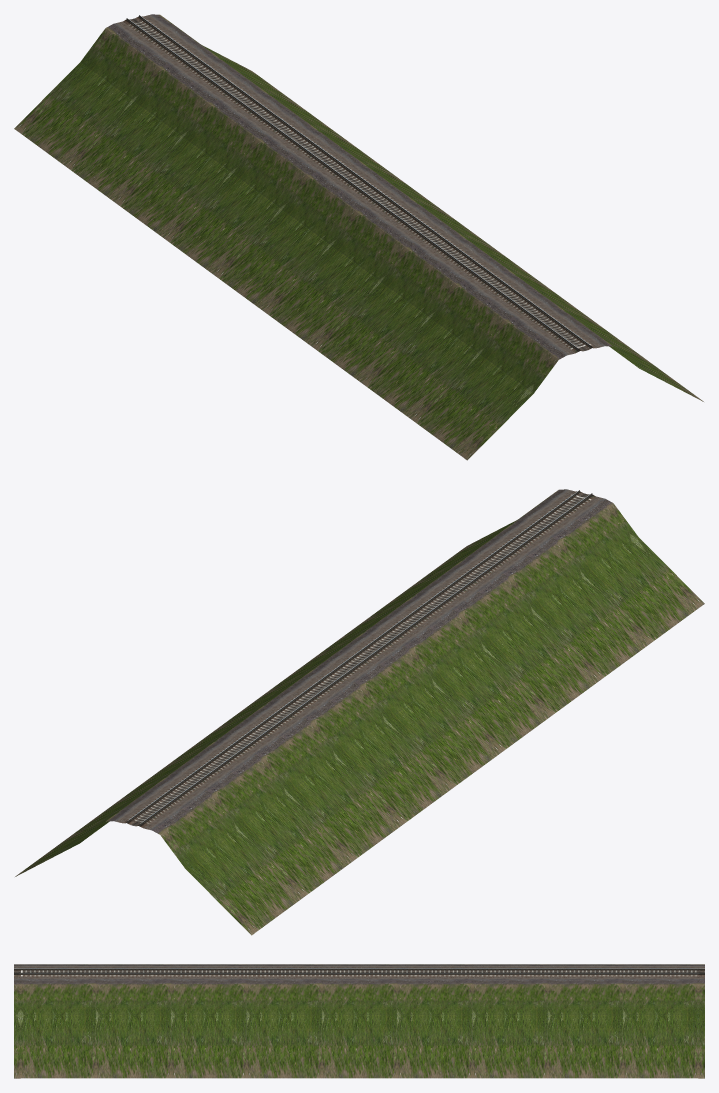
File: tracks_1track.gltf
3 views of the same model, one above another, from view 1: azimuth 30°, elevation 25°; view 2: azimuth 150°, elevation 25°; view 3: azimuth 270°, elevation 25° (orthographic). The views are drawn at different scales.
Visible parts, largest first — view 1: tracks_1track; view 2: tracks_1track; view 3: tracks_1track.
Boxes of the visible parts, x1,y1,x2,y2 form: tracks_1track: (14,14,703,460); tracks_1track: (15,489,704,935); tracks_1track: (14,964,704,1078).
Bounding box in the file's own units: 30.88 × 10.36 × 102.
1 material, 1 textured.
